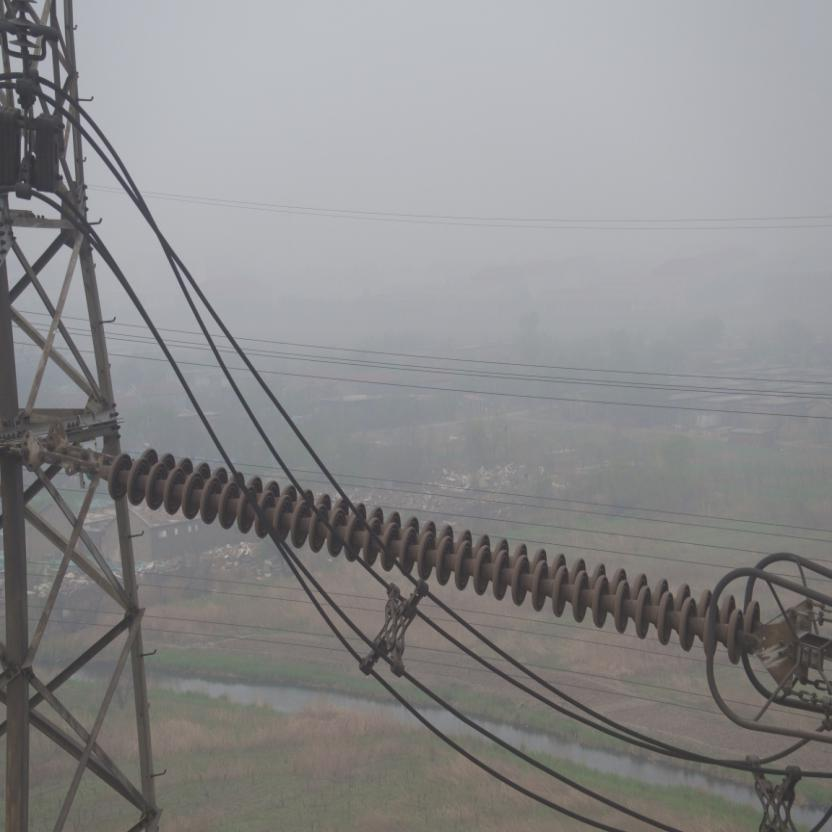insulator: (63, 440, 777, 670)
